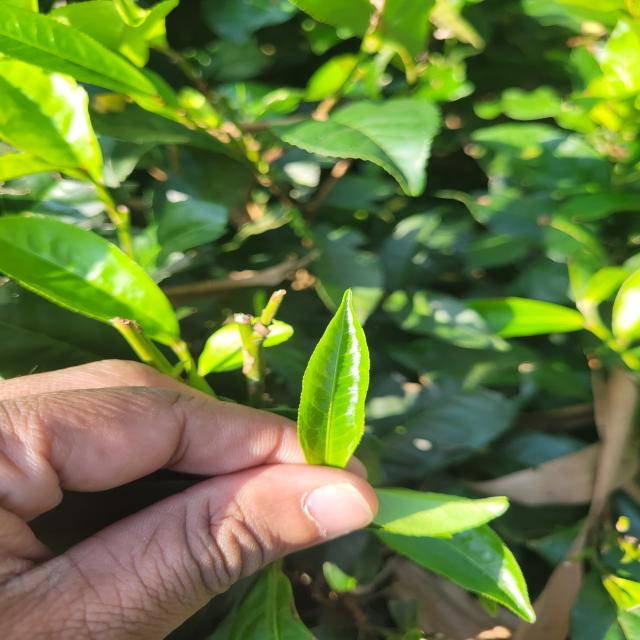Catagory A 1-2 days: (282, 280, 411, 481)
